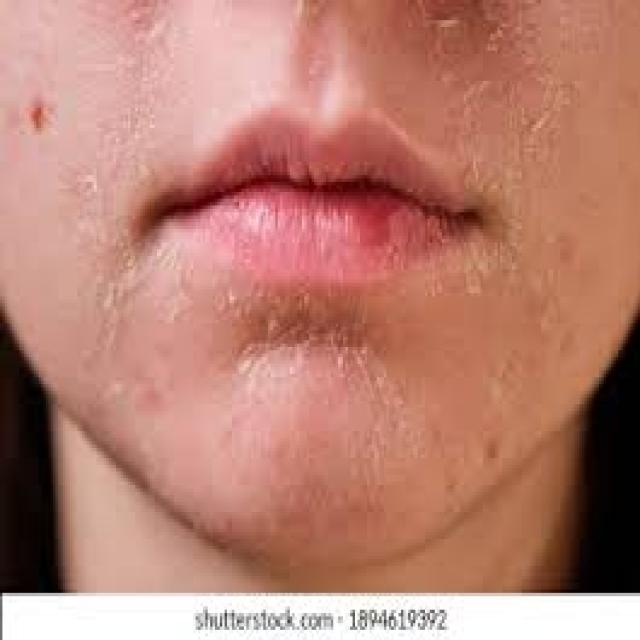flakiness: (78, 272, 430, 396), (412, 0, 579, 202)
